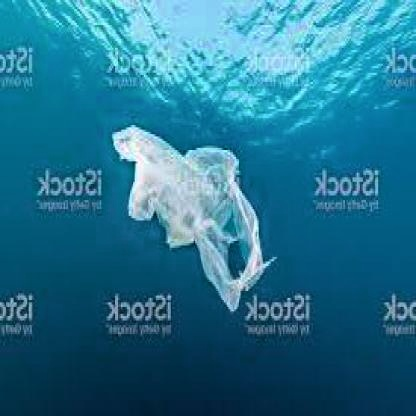pbag: (110, 122, 278, 314)
